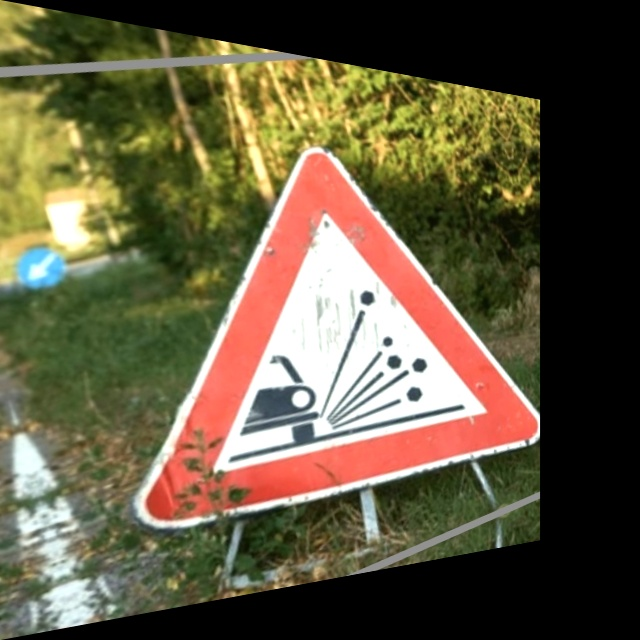Loose_Gravel: (67, 76, 522, 578)
